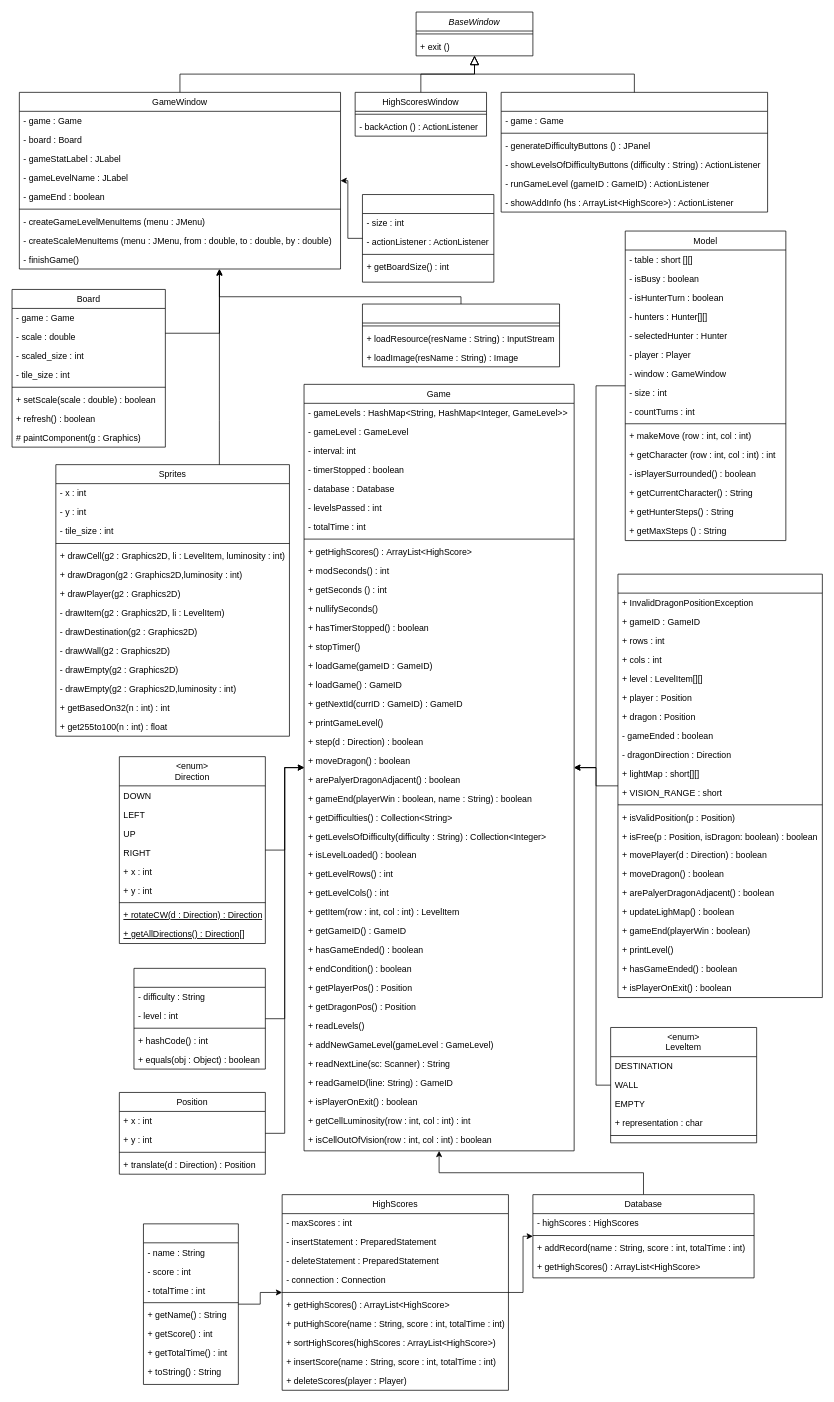
Some shapes in this 834 by 1402 pixel diagram are drawn without their labels. The shapes that lost their labels are listed below. From the top down, each one's box as (x1, y1, x2, y2) in pixels, then its label:
(500, 92, 768, 212): MainWindow
(362, 194, 494, 282): MenuBar
(362, 303, 560, 367): ResourceLoader
(617, 573, 822, 998): GameLevel
(133, 968, 265, 1069): GameID
(143, 1223, 238, 1384): HighScore
